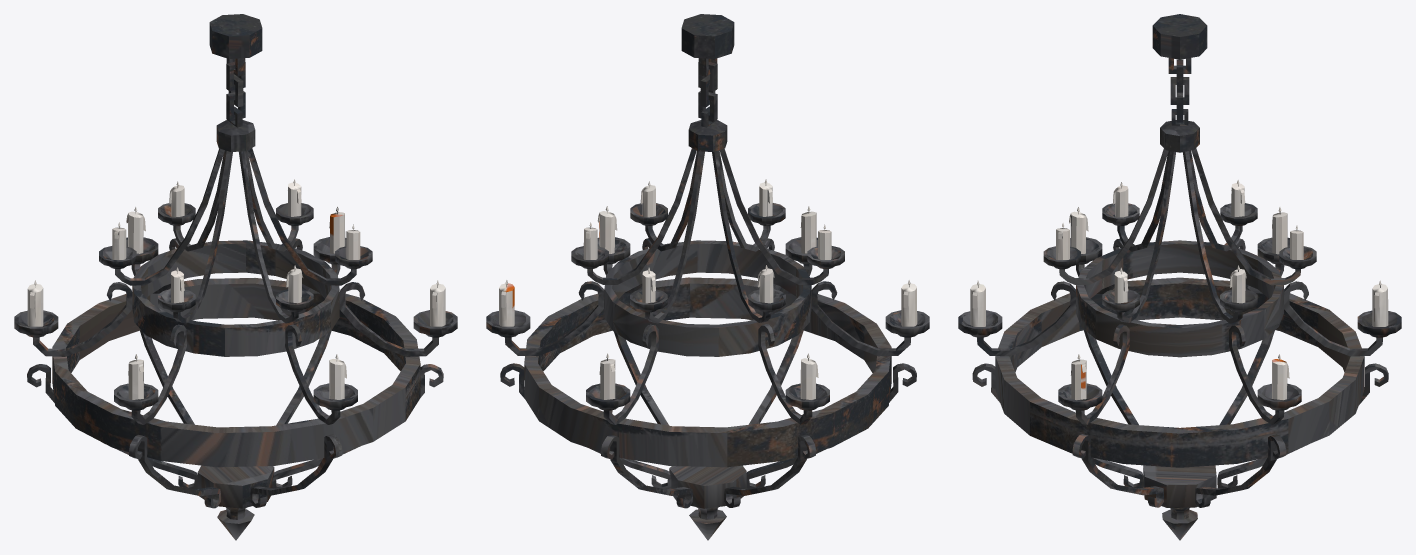
The model's file is EditedChandelier.glb.
3 views of the same model, side by side, from view 1: azimuth 30°, elevation 25°; view 2: azimuth 150°, elevation 25°; view 3: azimuth 270°, elevation 25° (orthographic).
Visible parts, largest first — view 1: g.001; view 2: g.001; view 3: g.001.
Part boxes in pixels (x1,y1,x2,y2): g.001: (14,14,457,540); g.001: (486,14,929,540); g.001: (958,14,1401,540).
Size of the model in its own units: 1.37 by 2 by 1.56.
1 material, 1 textured.
